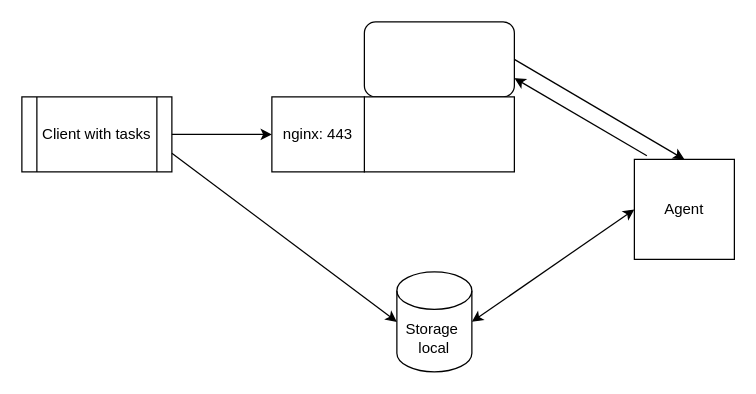
Image size: 756x394. Some labels were removed from this diagram. Each missing label, with the centre of its shape:
"prefect server (Apollo: 4200)" goes at point 438,59.
"UI: 8080" goes at point 438,134.
